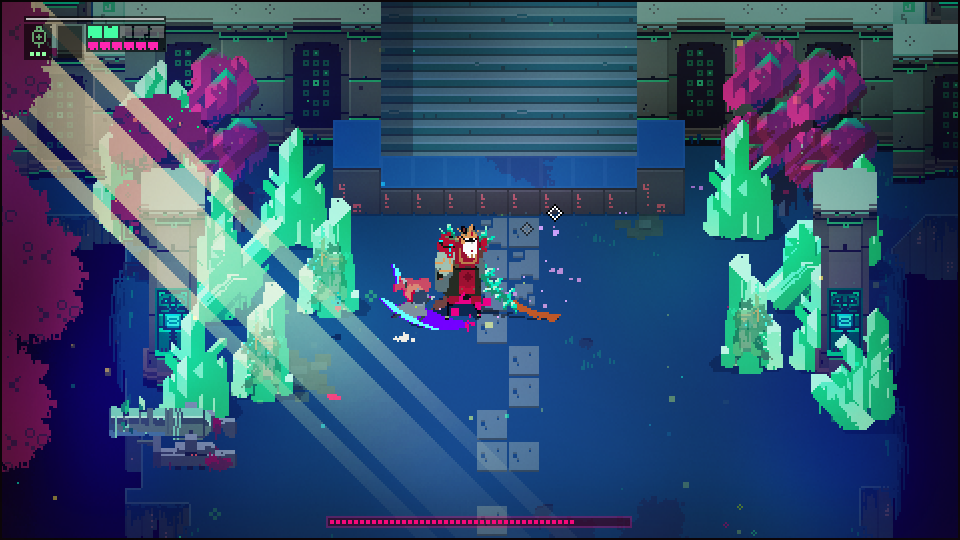hanged_man: (432, 221, 525, 327)
player: (379, 264, 440, 336)
